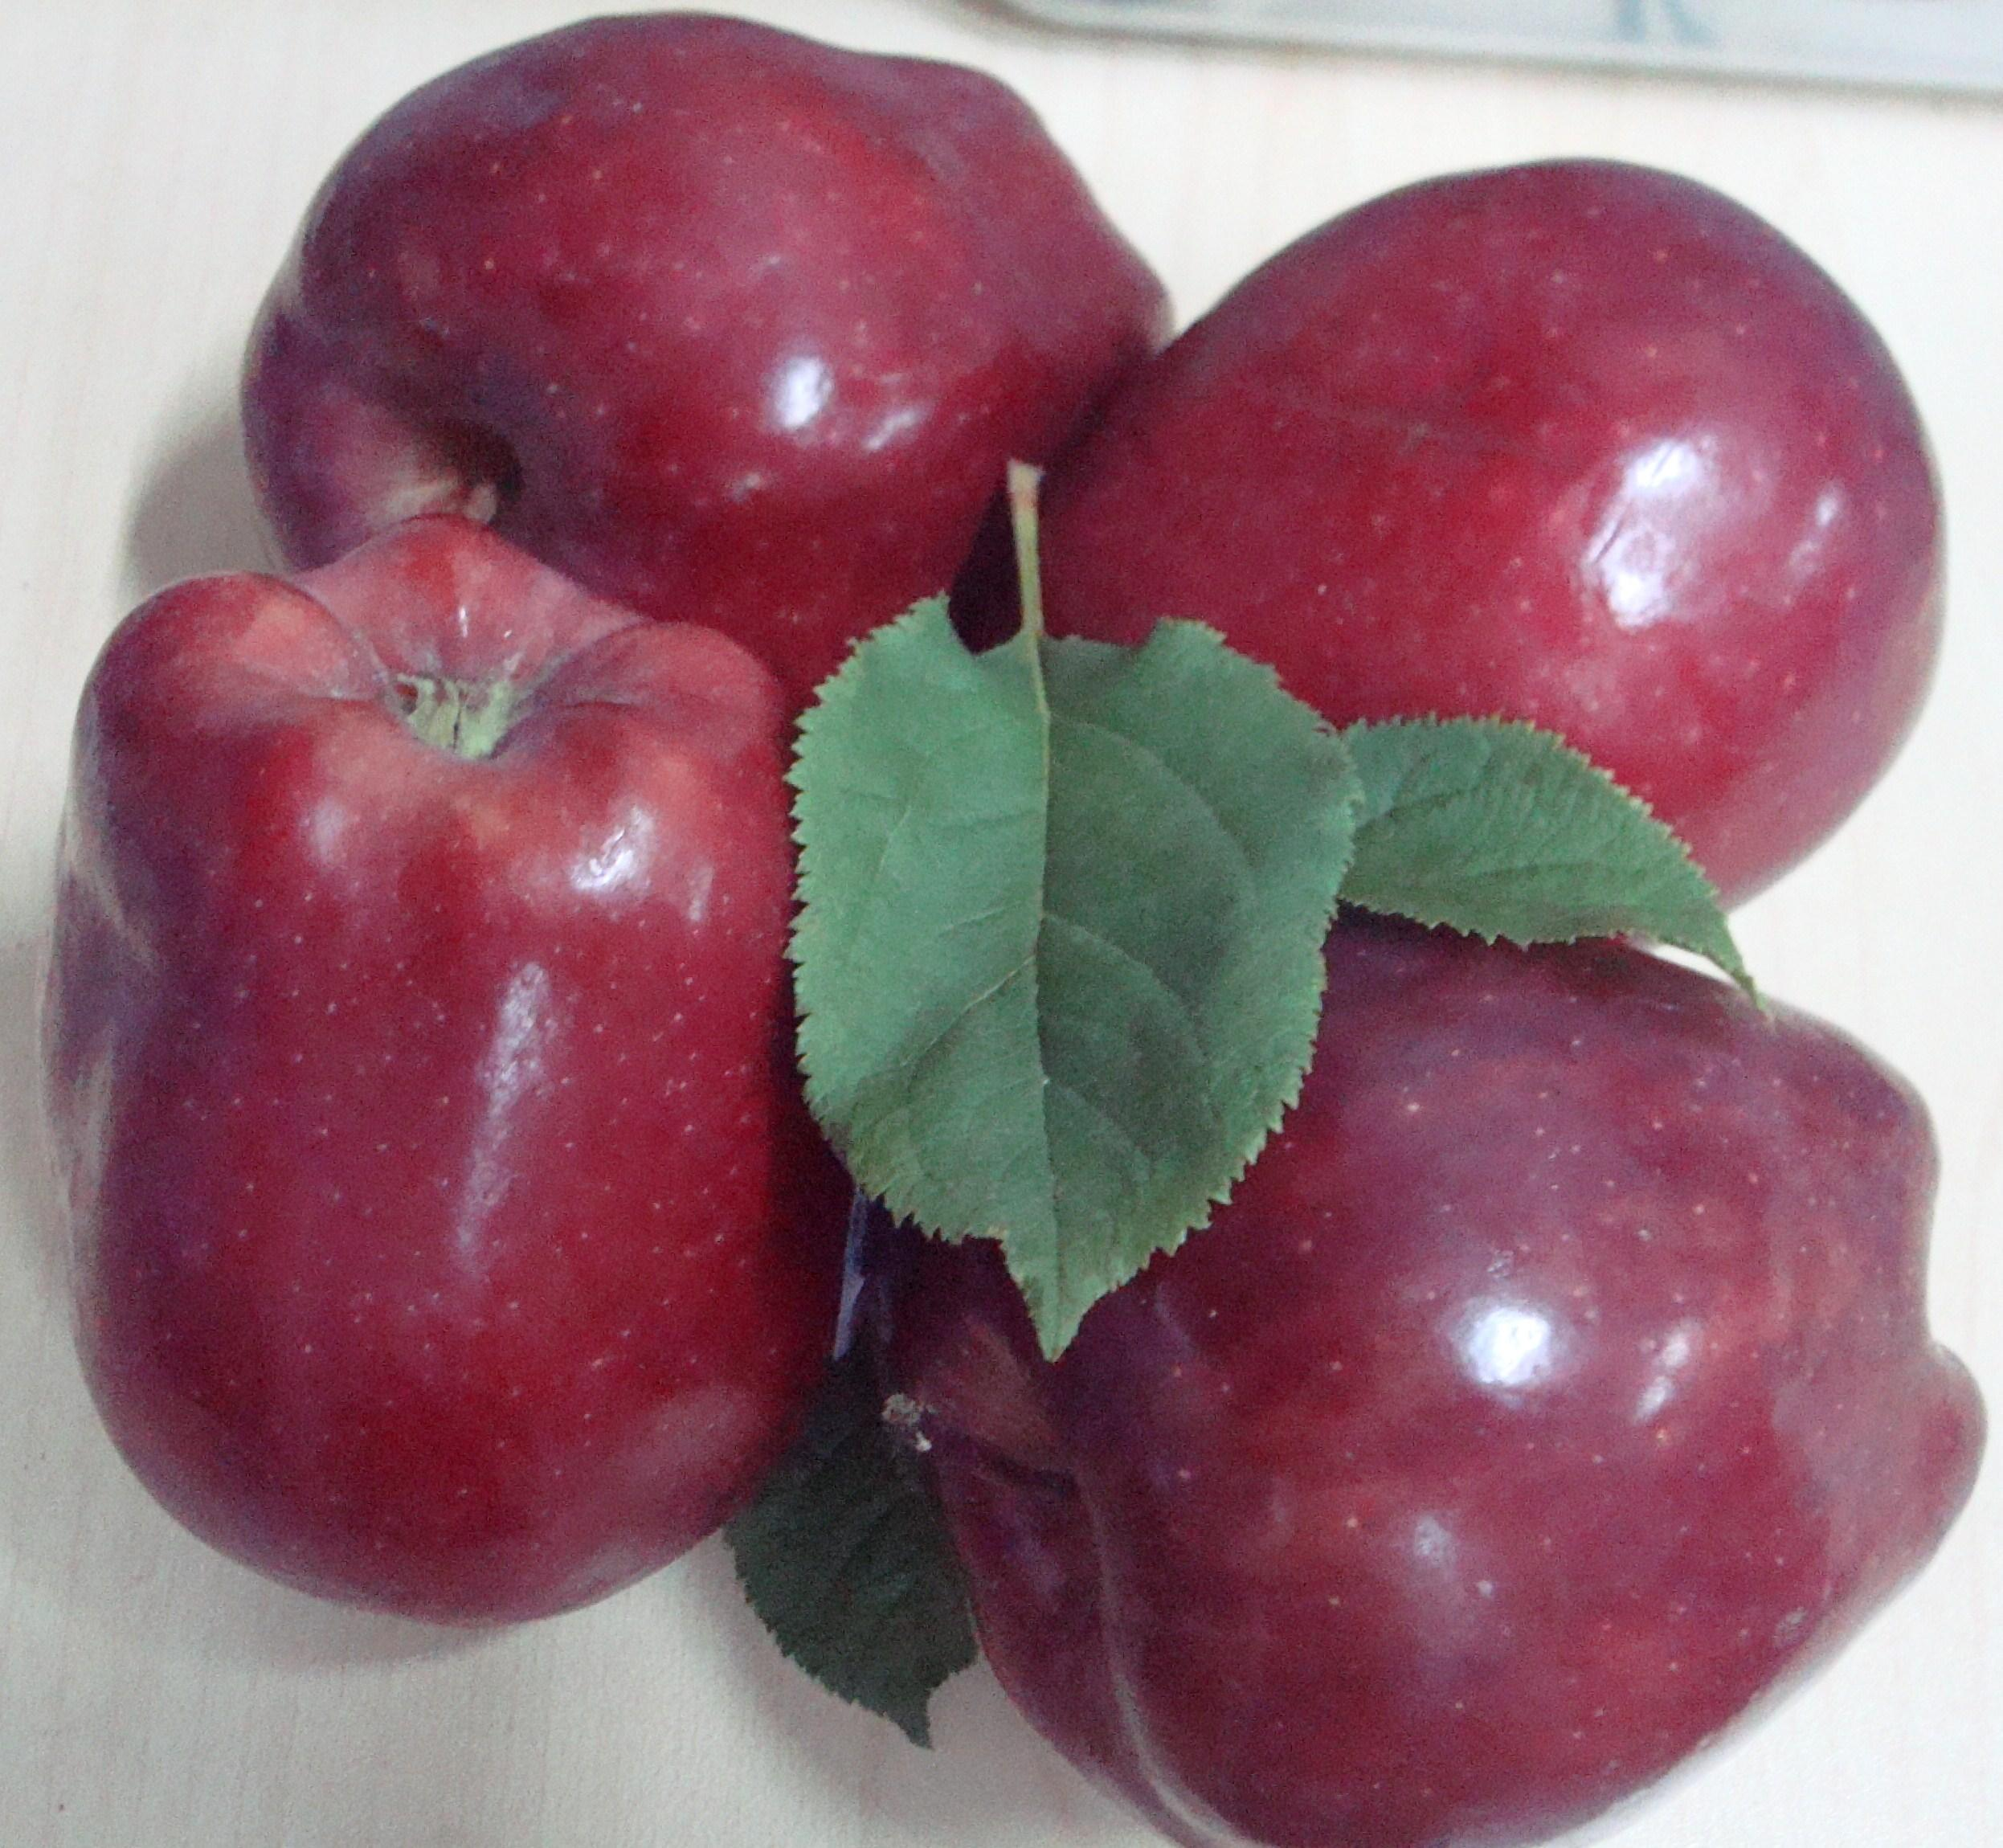apple: (858, 893, 1951, 1832), (56, 524, 831, 1640), (1026, 152, 1956, 913), (244, 12, 1221, 700)
